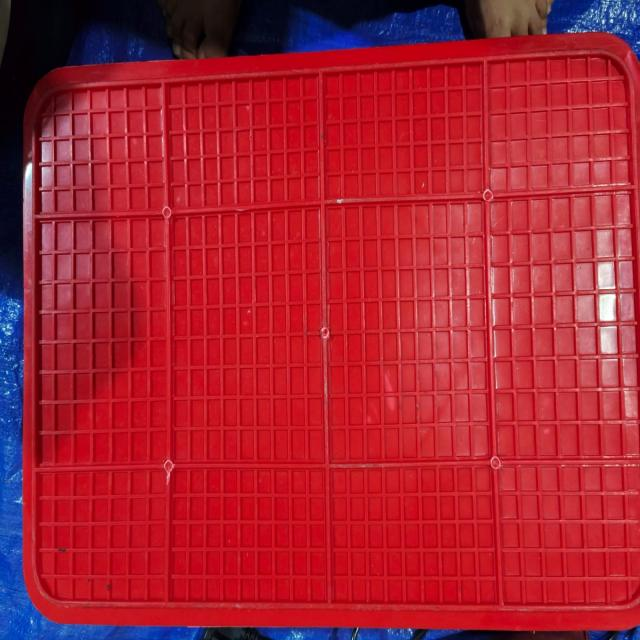red plastic box: (22, 31, 640, 632)
